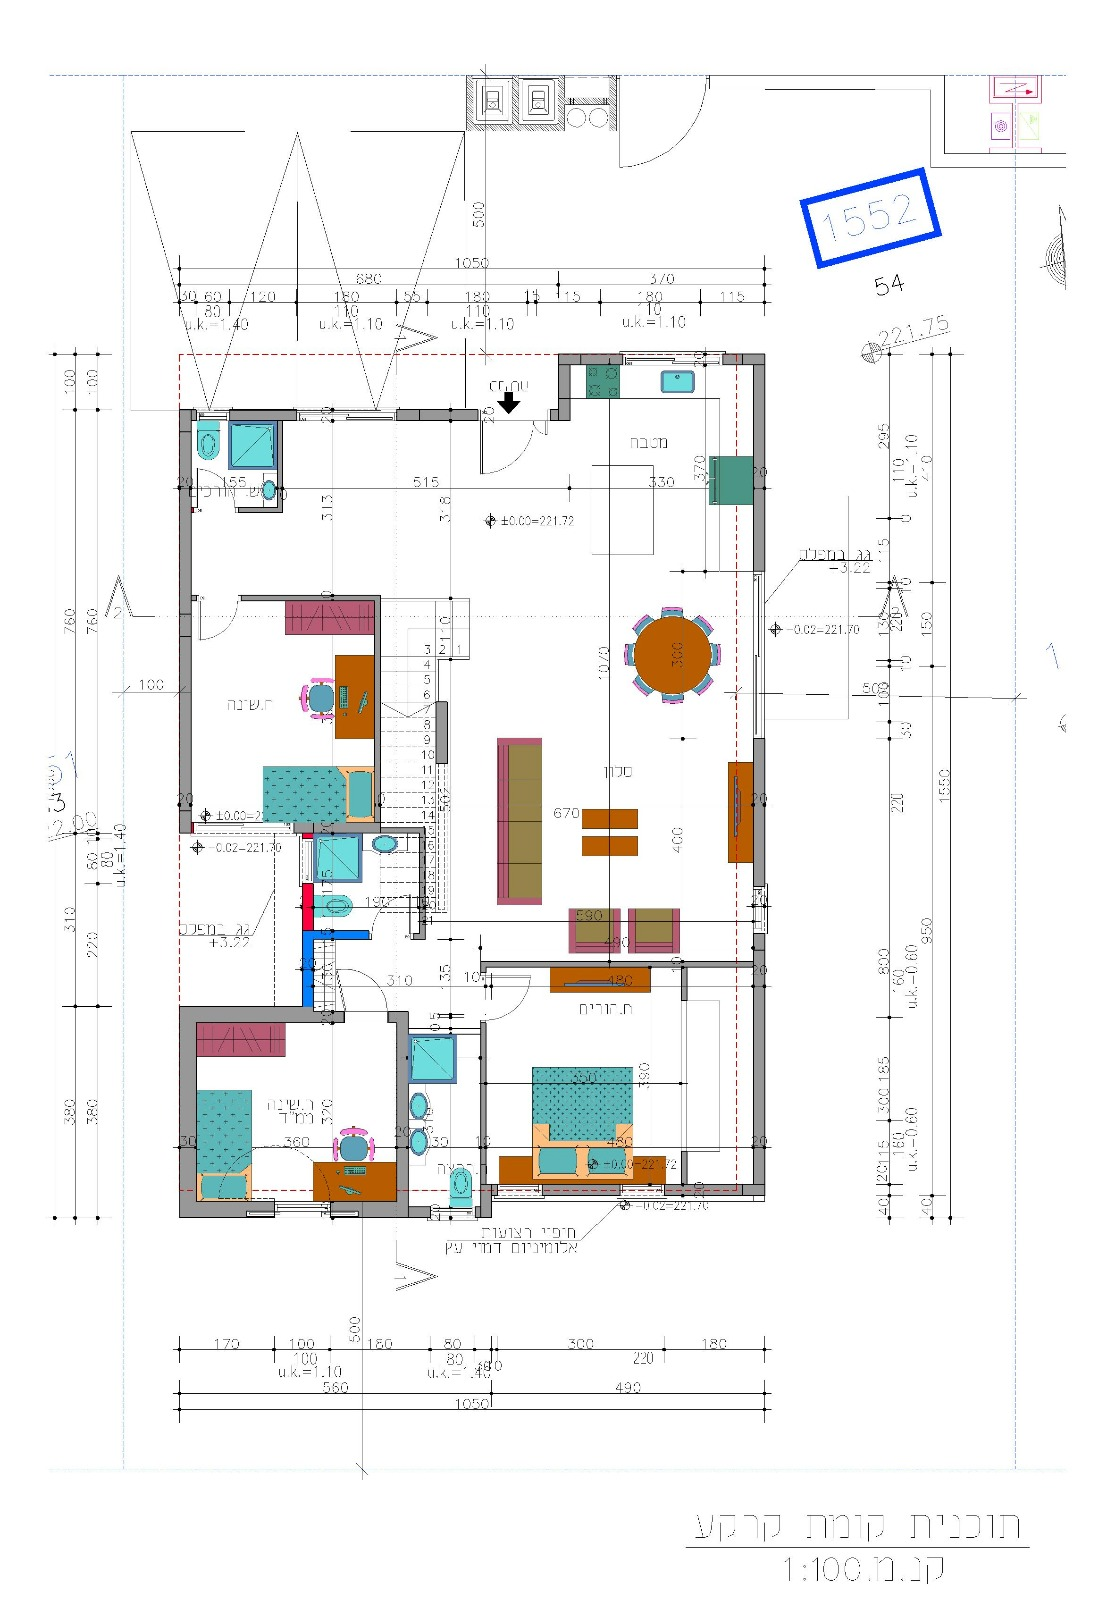door: (475, 424, 558, 478), (497, 973, 540, 1030), (195, 607, 246, 646)
wall: (181, 1012, 195, 1139), (180, 1010, 308, 1021), (398, 1015, 409, 1134), (755, 991, 764, 1139), (184, 1202, 244, 1216), (364, 1202, 402, 1215)
window: (744, 567, 772, 740), (615, 349, 730, 370), (270, 1198, 336, 1219), (494, 1181, 546, 1206)
